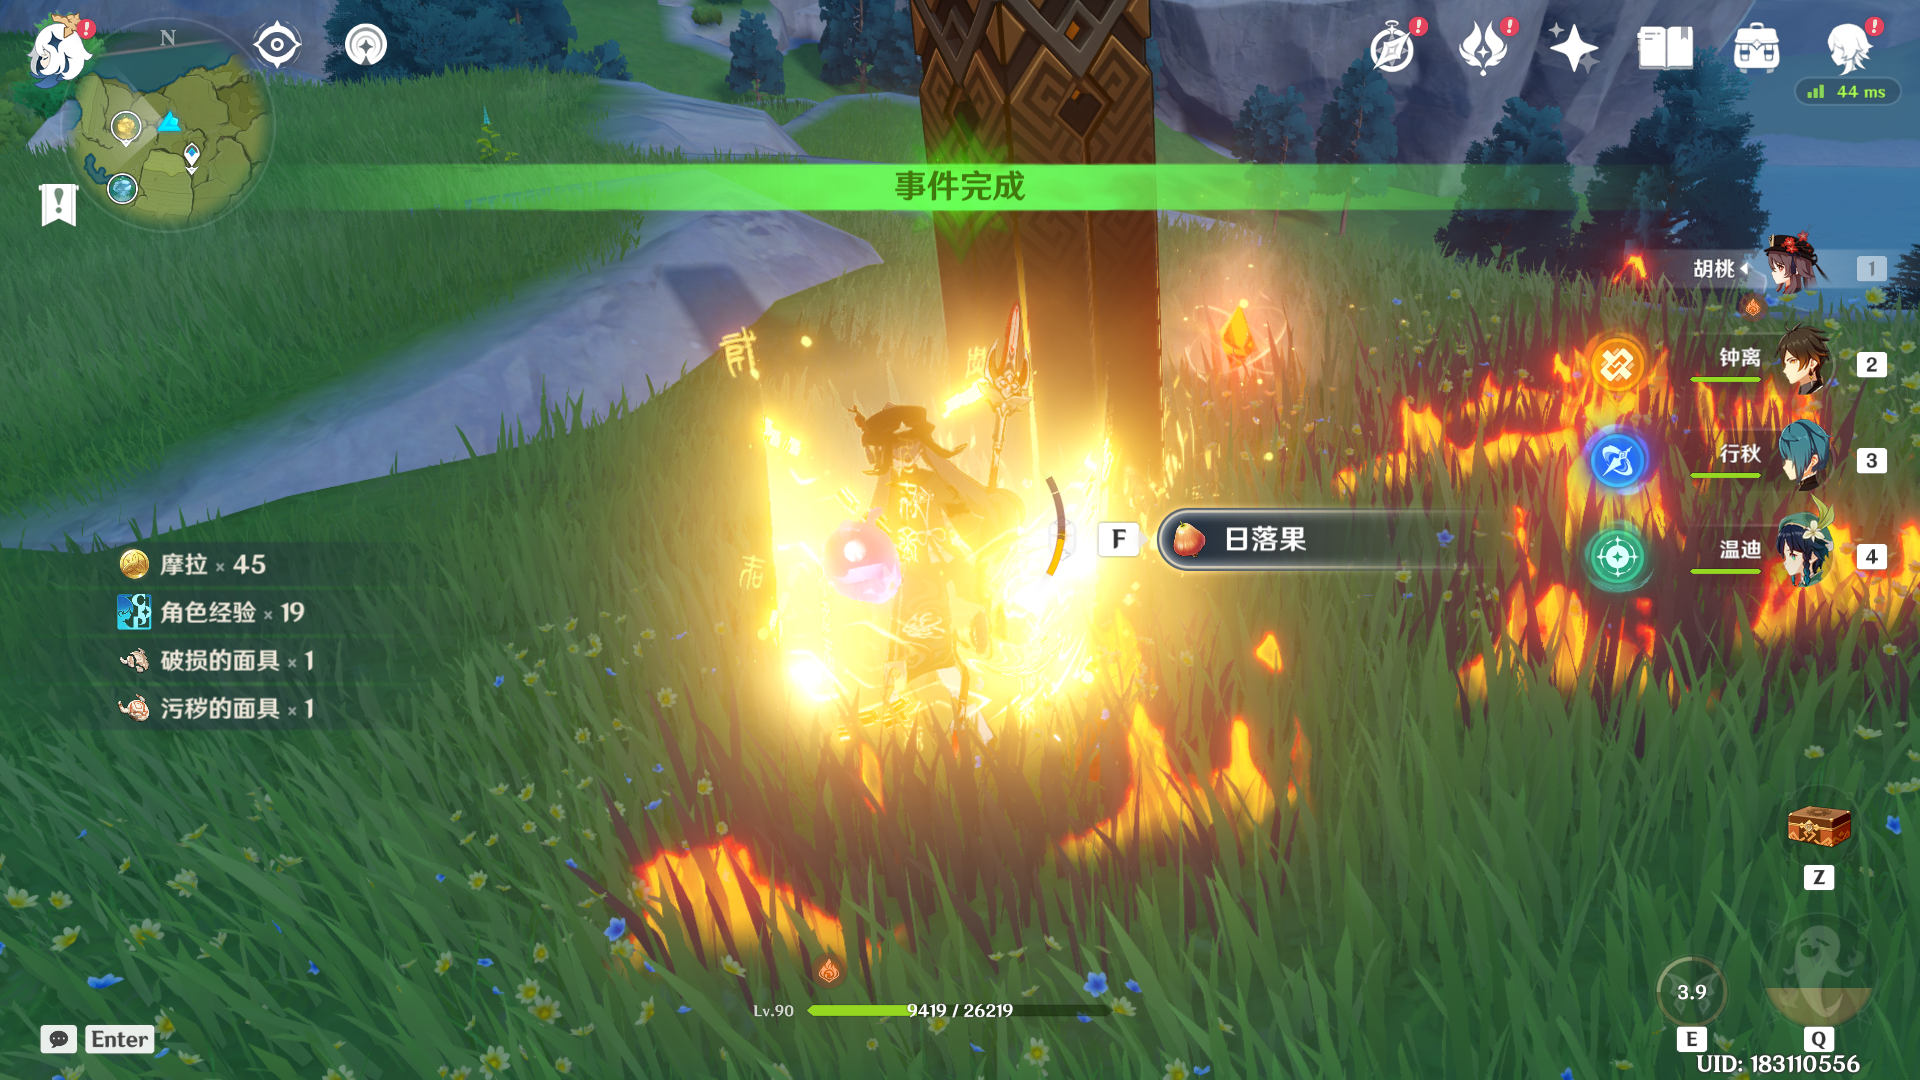character: (825, 363, 1072, 738)
